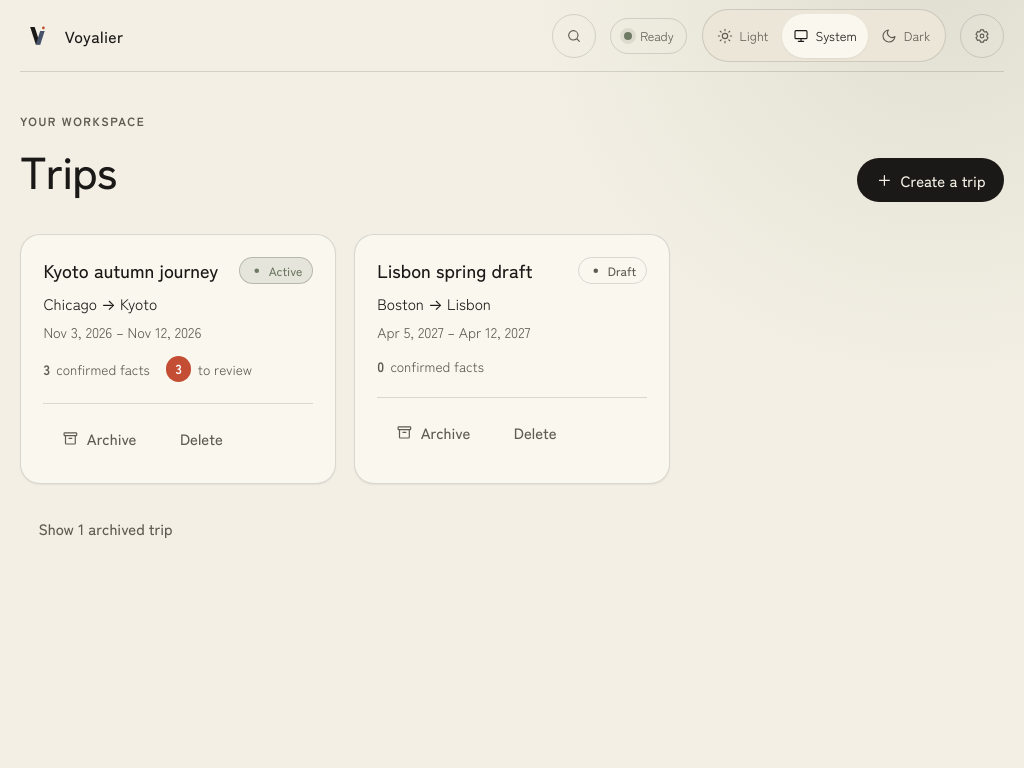
Test case: surface transport facts › offers every mode the evidence model records
The image size is (1024, 768).
What coordinates should you click on to do the following:
click the button with aria-label "Open Kyoto autumn journey"
I would click on:
 (131, 270)
Its box is x1=43 y1=257 x2=218 y2=283.
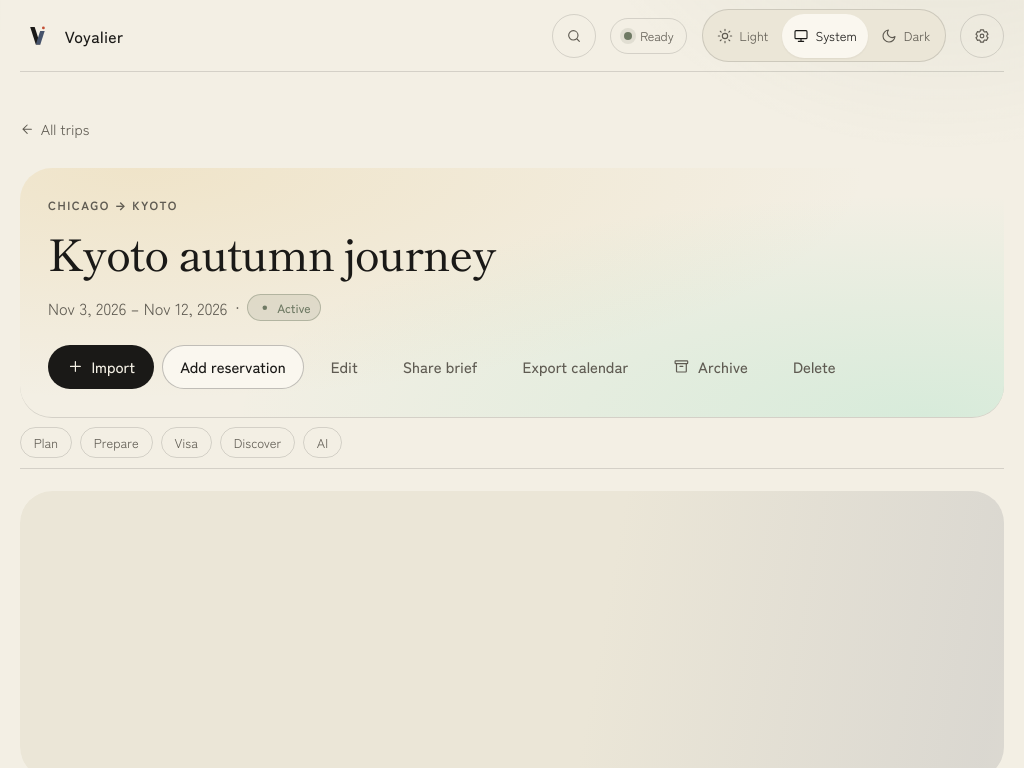
Expected: the heading "Kyoto autumn journey" is shown, x1=48 y1=221 x2=496 y2=283
What coordinates should you click on to do the following:
click the button "Add reservation"
I would click on:
 (233, 367)
Its box is x1=162 y1=345 x2=304 y2=389.
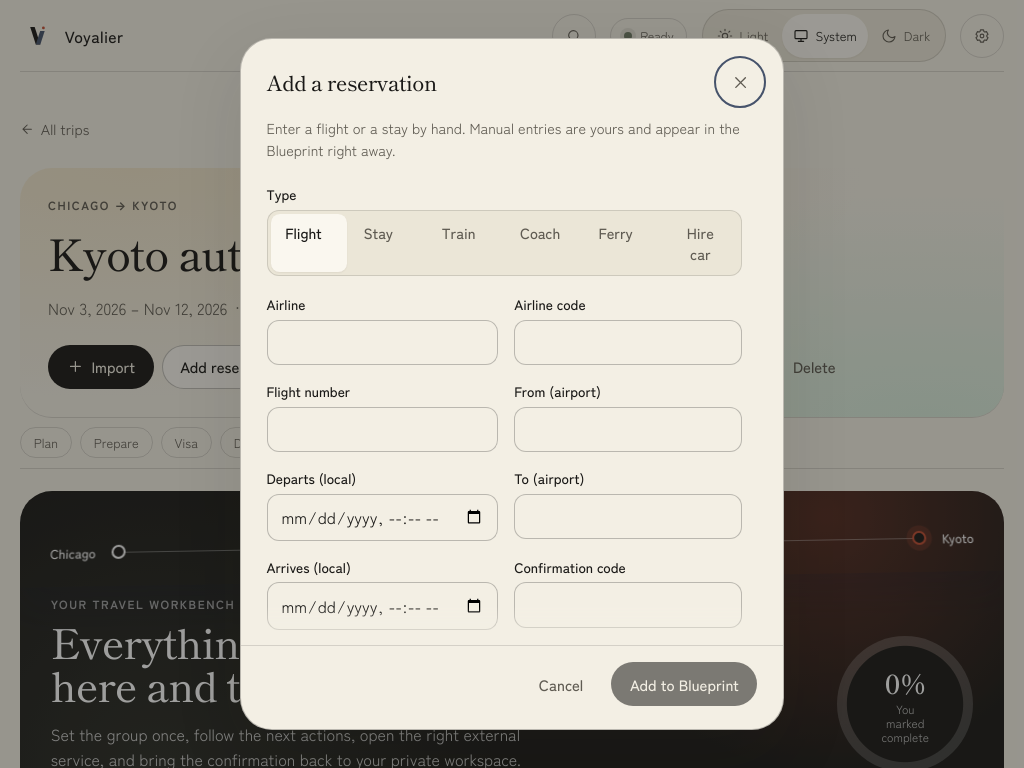
Now the radio button labelled "Flight" is shown, box x1=271 y1=214 x2=347 y2=272
Now the radio button labelled "Stay" is shown, box x1=349 y1=214 x2=425 y2=272
Now the radio button labelled "Train" is shown, box x1=427 y1=214 x2=503 y2=272
